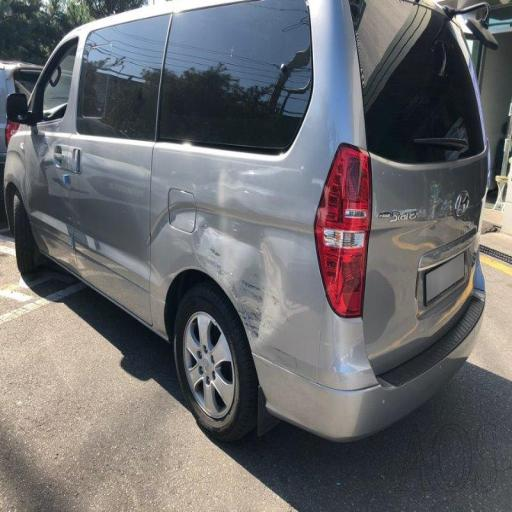dent: (154, 131, 354, 422)
